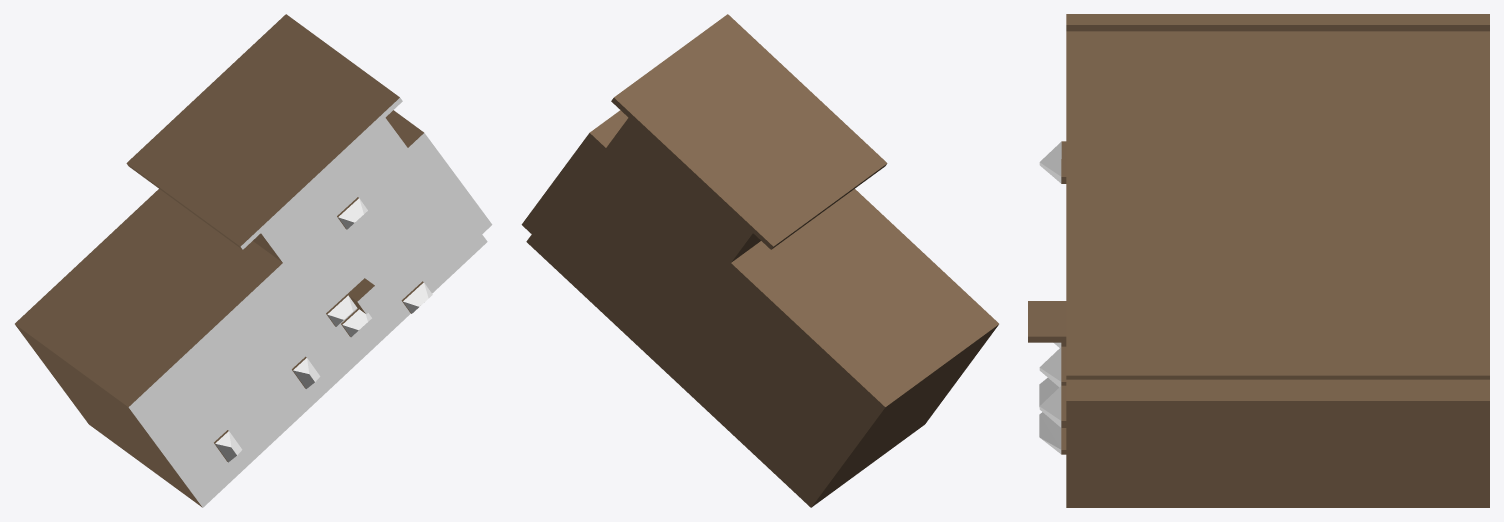
The picture shows the model from 3 angles, left to right: view 1: azimuth 30°, elevation 25°; view 2: azimuth 150°, elevation 25°; view 3: azimuth 270°, elevation 25°; orthographic projection. The views are drawn at different scales.
Visible parts, largest first — view 1: City_2317233; view 2: City_2317233; view 3: City_2317233.
Boxes of the visible parts, <box> form: City_2317233: <box>15,14,492,507</box>; City_2317233: <box>521,14,998,507</box>; City_2317233: <box>1028,14,1489,507</box>.
Bounding box in the file's own units: 2937 × 2794 × 1739.
